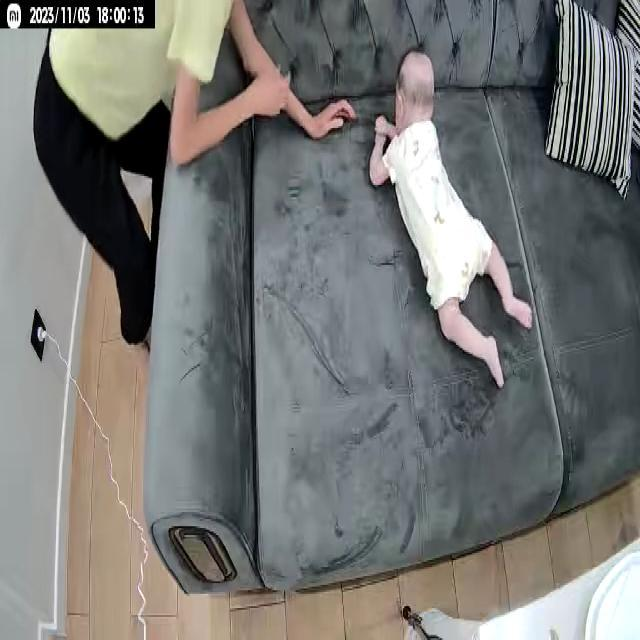baby: (369, 47, 536, 389)
